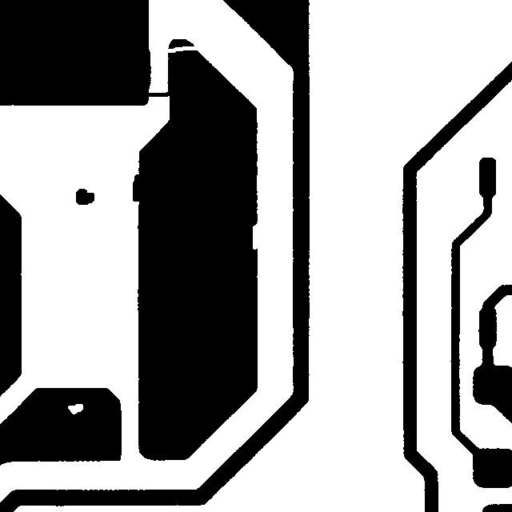copper: (68, 181, 102, 212)
mousebite: (245, 216, 267, 257)
open: (157, 38, 215, 60)
pin-hole: (60, 396, 90, 422)
short: (136, 84, 180, 104)
spur: (125, 166, 149, 209)
